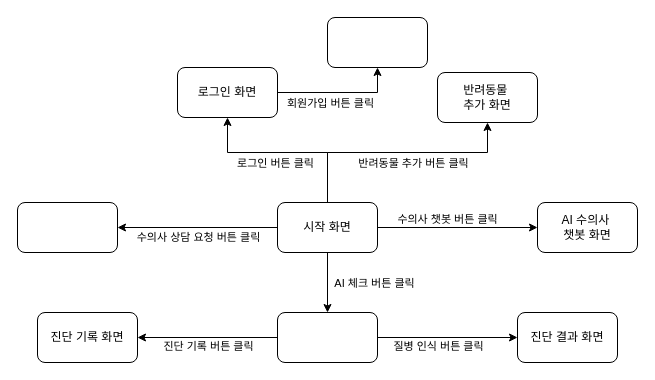
Some shapes in this 655 by 380 pixel diagram are drawn without their labels. The shapes that lost their labels are listed below. From the top down, each one's centre as x and y in pixels, then its label:
At point (377, 42): "회원가입 화면".
At point (67, 227): "수의사 상담 화면".
At point (327, 337): "질병 인식 화면".
